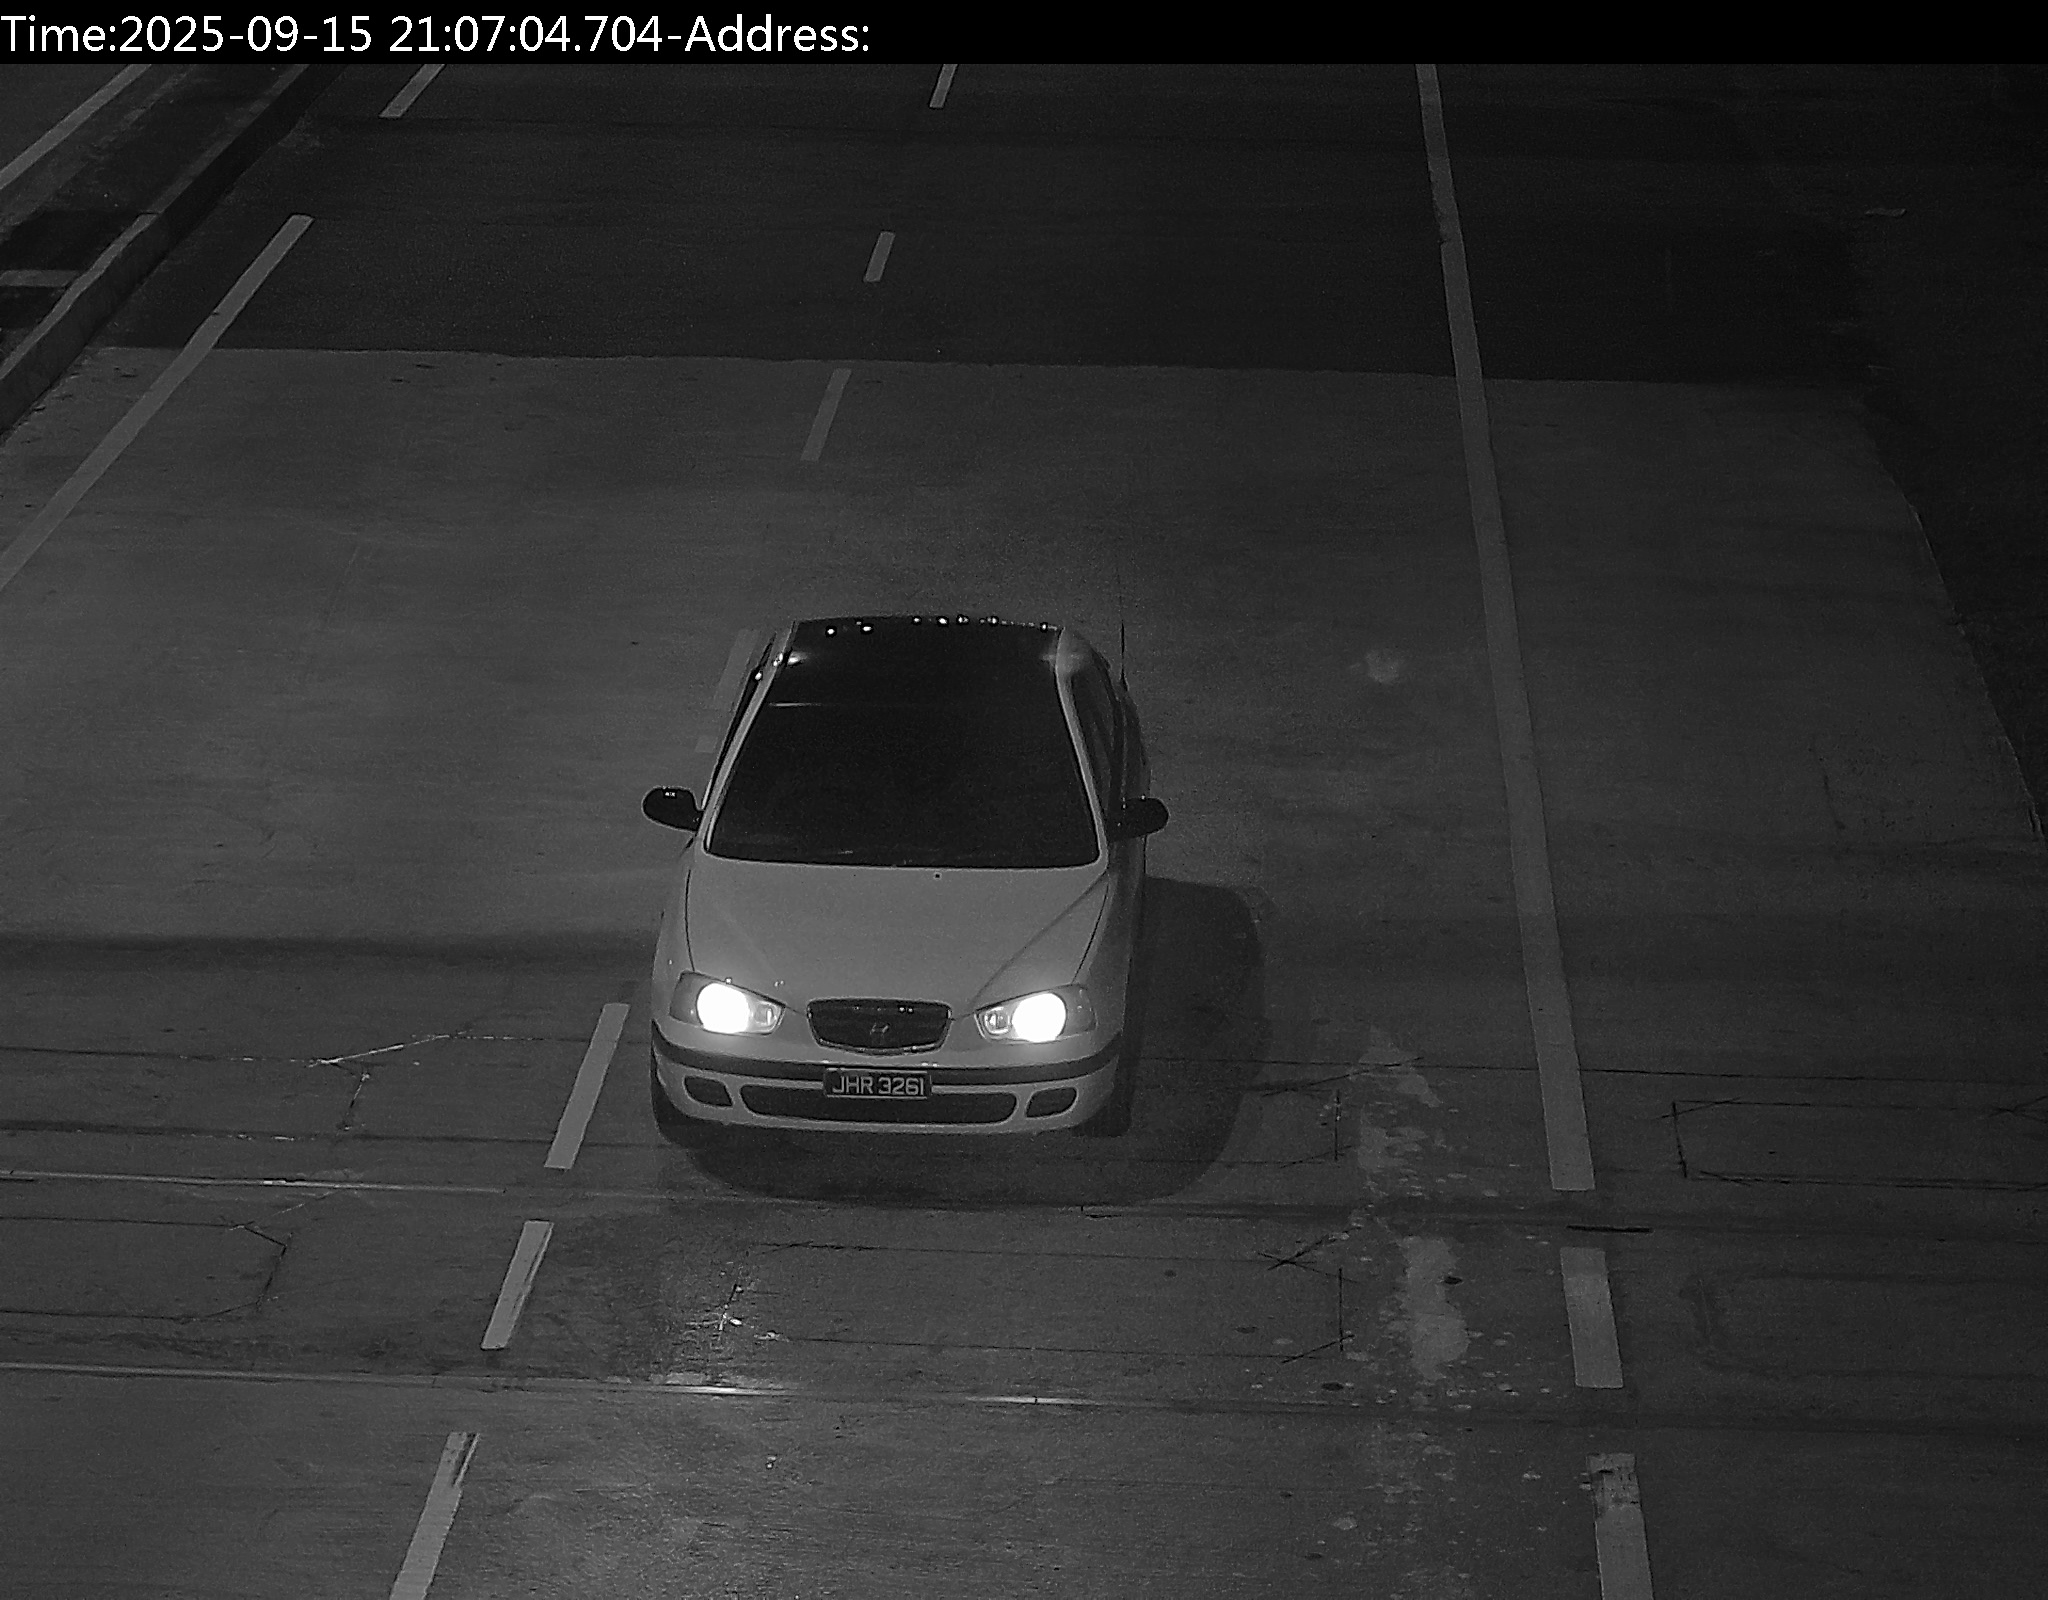class1_lightVehicle: (649, 620, 1149, 1138)
license_plate: (831, 1068, 924, 1096)
